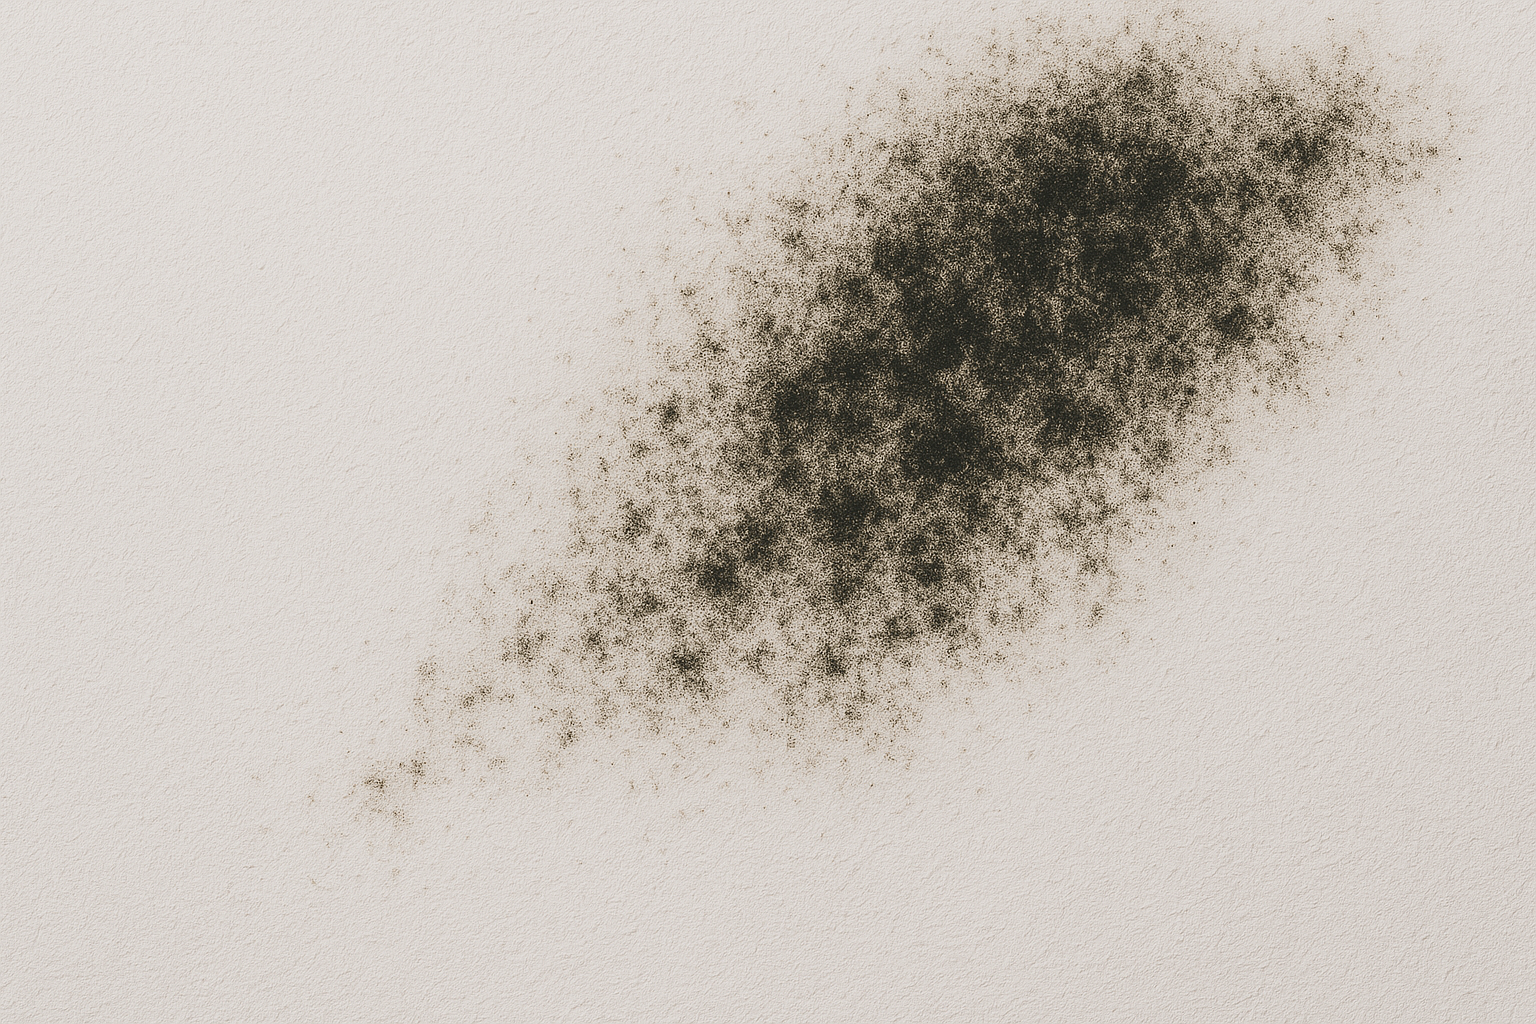schimmel: (1024, 109, 1288, 342), (808, 289, 917, 483), (774, 495, 945, 615), (1039, 358, 1187, 486), (934, 222, 1025, 413), (960, 424, 1042, 610)
